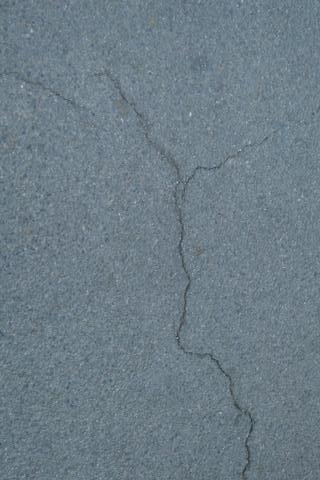A: (102, 69, 273, 480), (2, 72, 83, 116)
